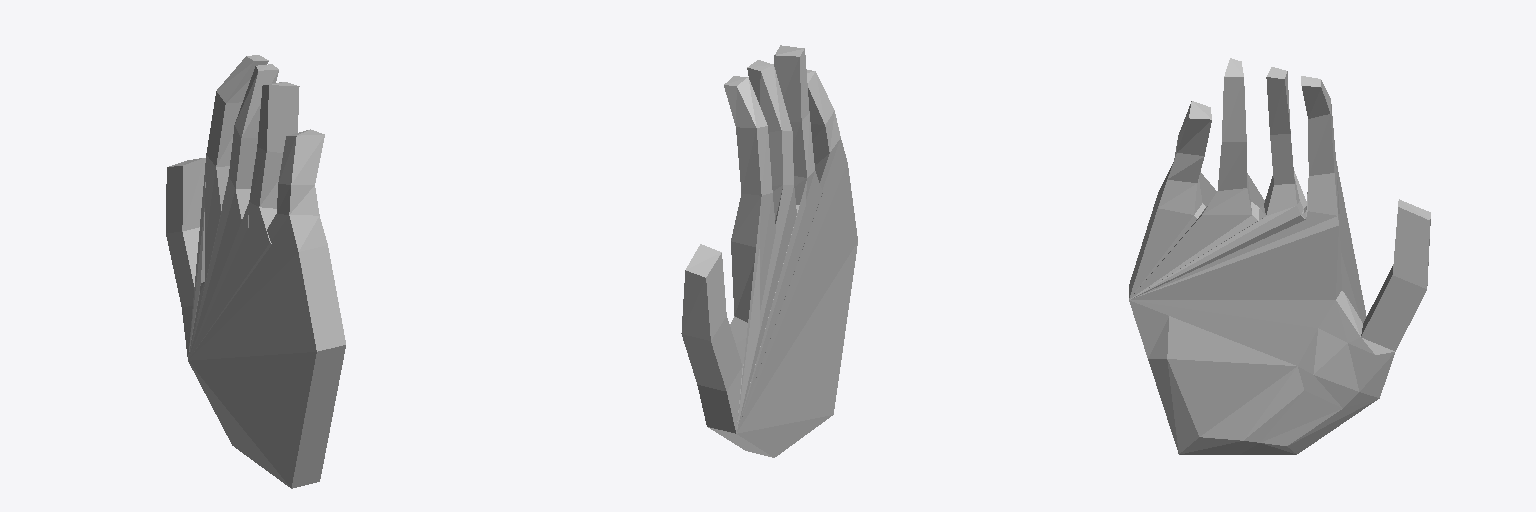
File: hand.obj
The picture shows the model from 3 angles: view 1: azimuth 30°, elevation 25°; view 2: azimuth 150°, elevation 25°; view 3: azimuth 270°, elevation 25°; orthographic projection.
Parts seen in each view (by area): view 1: Cube; view 2: Cube; view 3: Cube.
Boxes of the visible parts, box(x1,y1,x2,y2) form: Cube: box(166, 55, 345, 488); Cube: box(681, 45, 857, 457); Cube: box(1129, 58, 1430, 454).
Bounding box in the file's own units: 0.0704 × 0.5451 × 0.3887.